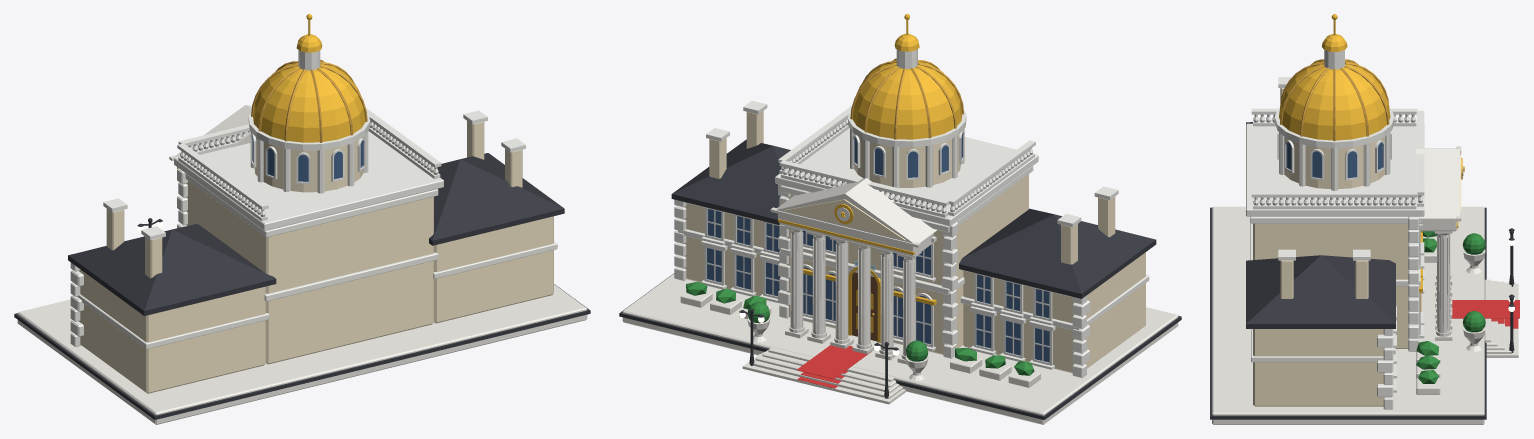
Rendered from Mansion.fbx.
3 renders of one model, left to right at view 1: azimuth 30°, elevation 25°; view 2: azimuth 150°, elevation 25°; view 3: azimuth 270°, elevation 25°, orthographic. The views are drawn at different scales.
Parts seen in each view (by area): view 1: Mansion_Cream, Mansion, Mansion_MarbleDark, Mansion_Marble, Mansion_Gold, Mansion_Brass, Mansion_GlassDark; view 2: Mansion_Marble, Mansion, Mansion_Cream, Mansion_MarbleDark, Mansion_Gold, Mansion_GlassDark, Mansion_Hedge, Mansion_Red, Mansion_Brass, Mansion_WoodDark, Mansion_Charcoal; view 3: Mansion_Marble, Mansion, Mansion_Cream, Mansion_MarbleDark, Mansion_Gold, Mansion_Hedge, Mansion_Brass, Mansion_Red, Mansion_GlassDark, Mansion_Charcoal.
Boxes of the visible parts, x1,y1,x2,y2 form: Mansion_Cream: (79, 121, 553, 393); Mansion: (70, 50, 557, 349); Mansion_MarbleDark: (14, 153, 590, 419); Mansion_Marble: (17, 105, 587, 424); Mansion_Gold: (177, 14, 365, 168); Mansion_Brass: (251, 59, 367, 142); Mansion_GlassDark: (252, 136, 363, 181); Mansion_Marble: (622, 178, 1178, 424); Mansion: (674, 49, 1149, 377); Mansion_Cream: (684, 111, 1145, 373); Mansion_MarbleDark: (619, 139, 1181, 419); Mansion_Gold: (778, 14, 962, 342); Mansion_GlassDark: (707, 133, 1049, 362); Mansion_Hedge: (686, 282, 1034, 375); Mansion_Red: (797, 345, 871, 388); Mansion_Brass: (850, 58, 964, 315); Mansion_WoodDark: (851, 272, 877, 341); Mansion_Charcoal: (739, 309, 898, 398); Mansion_Marble: (1212, 146, 1518, 424); Mansion: (1246, 50, 1463, 409); Mansion_Cream: (1253, 88, 1461, 406); Mansion_MarbleDark: (1210, 122, 1486, 419); Mansion_Gold: (1279, 14, 1464, 311); Mansion_Hedge: (1416, 231, 1485, 383); Mansion_Brass: (1280, 59, 1389, 141); Mansion_Red: (1451, 300, 1519, 328); Mansion_GlassDark: (1286, 142, 1383, 178); Mansion_Charcoal: (1508, 228, 1514, 352).
Bounding box in the file's own units: 72.6 × 49.85 × 45.5.
